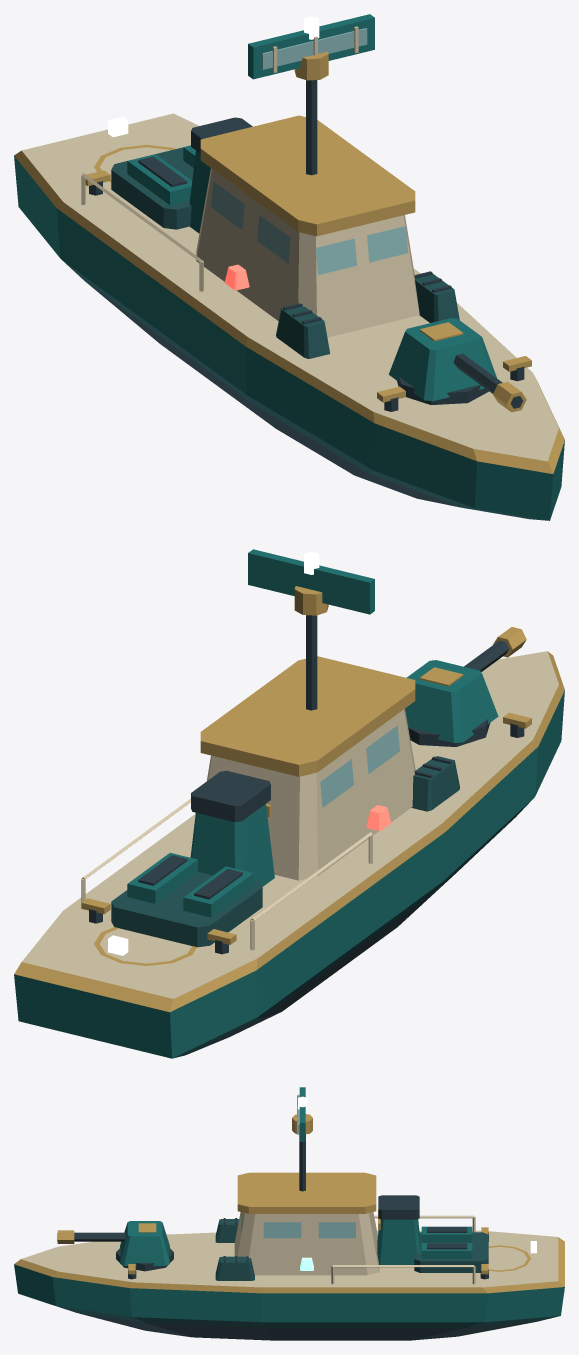
The model's file is destroyer-player.glb.
The picture shows the model from 3 angles, top to bottom: view 1: azimuth 30°, elevation 25°; view 2: azimuth 150°, elevation 25°; view 3: azimuth 270°, elevation 25°; orthographic projection. The views are drawn at different scales.
Visible parts, largest first — view 1: hull, turret, radar, funnel, barrel; view 2: hull, funnel, turret, radar, barrel; view 3: hull, funnel, turret, barrel, radar.
Boxes of the visible parts, <box> form: hull: <box>14,80,564,520</box>; turret: <box>388,318,496,404</box>; radar: <box>248,14,374,80</box>; funnel: <box>189,117,252,233</box>; barrel: <box>453,353,526,412</box>; hull: <box>14,615,564,1058</box>; funnel: <box>190,770,274,886</box>; turret: <box>405,660,498,746</box>; radar: <box>248,549,374,615</box>; barrel: <box>464,627,526,671</box>; hull: <box>14,1134,564,1340</box>; funnel: <box>377,1195,420,1264</box>; turret: <box>116,1221,173,1271</box>; barrel: <box>57,1230,125,1243</box>; radar: <box>292,1087,312,1141</box>.
Size of the model in its own units: 1.57 by 2.82 by 6.29.
